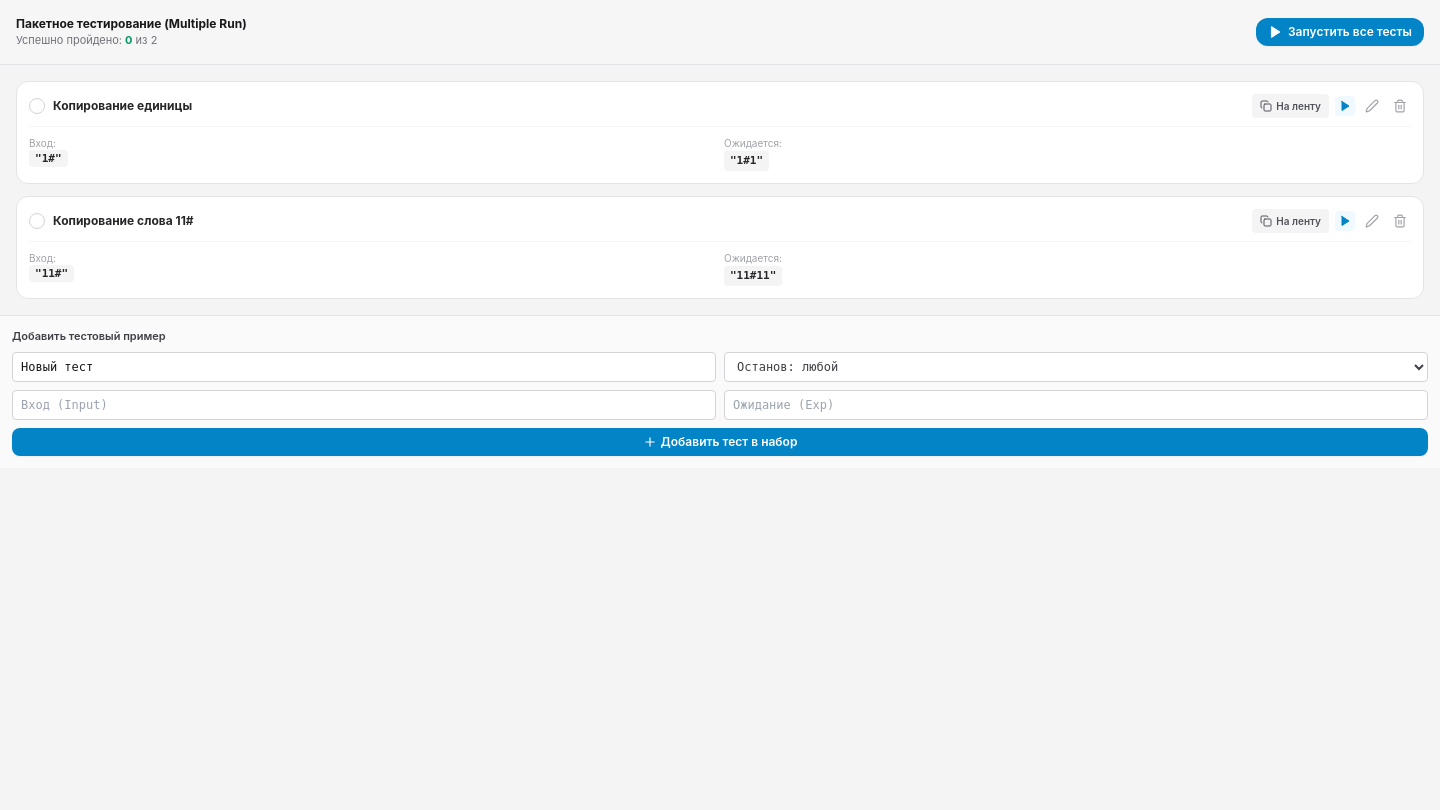
Test case: React UI Components › BatchTestRunner adds a test case, runs all tests, and loads input onto tape
This screenshot has width=1440, height=810.
Earlier steps of the test are not shown.
Later steps or results of the test are not shown.
Type "111#" into the field with placeholder "Вход (Input)" at (364, 405), box [12, 390, 716, 420]
Type "111#111" into the field with placeholder "Ожидание (Exp)" at (1076, 405), box [724, 390, 1428, 420]
Click the button "Добавить тест в набор" at (720, 442), box [12, 428, 1428, 456]
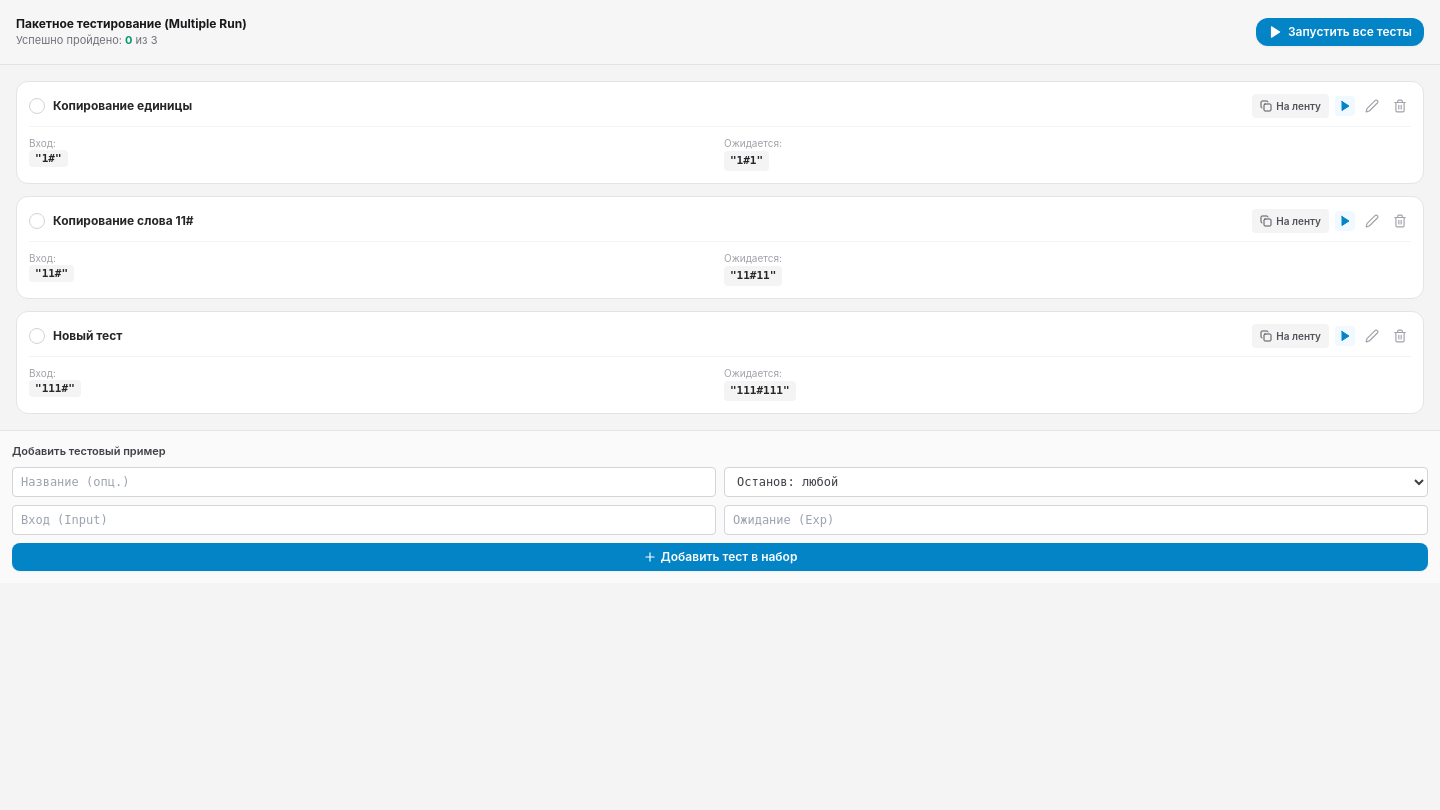
expect the text "Новый тест" is shown: met, box [53, 328, 122, 344]
Click the button "Запустить все тесты" at (1340, 32), box [1256, 18, 1424, 46]
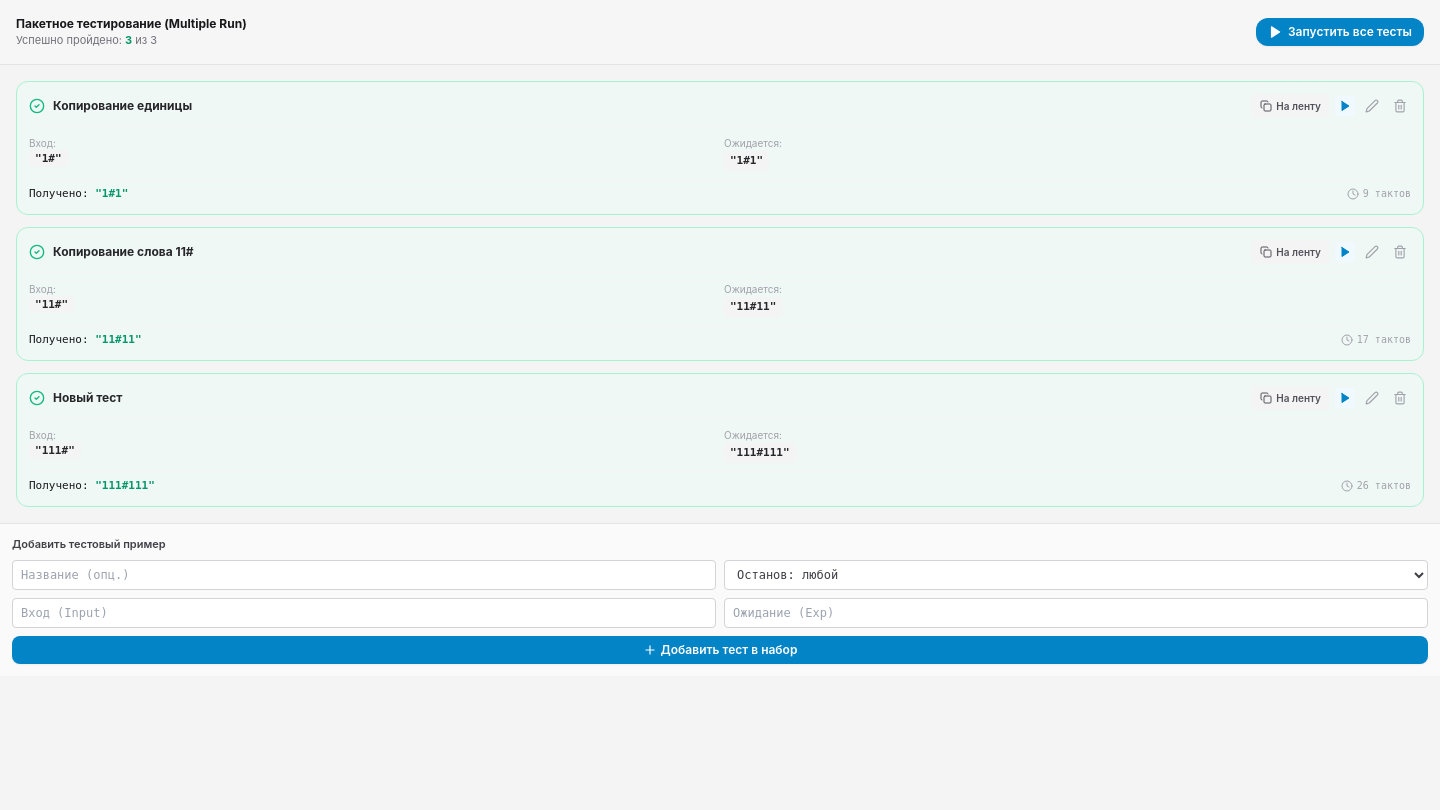
expect the text "3" is shown: met, box [125, 33, 132, 47]
// Add a test requiring accept halt
Type "Accept тест" into the field with placeholder "Название (опц.)" at (364, 575), box [12, 560, 716, 590]
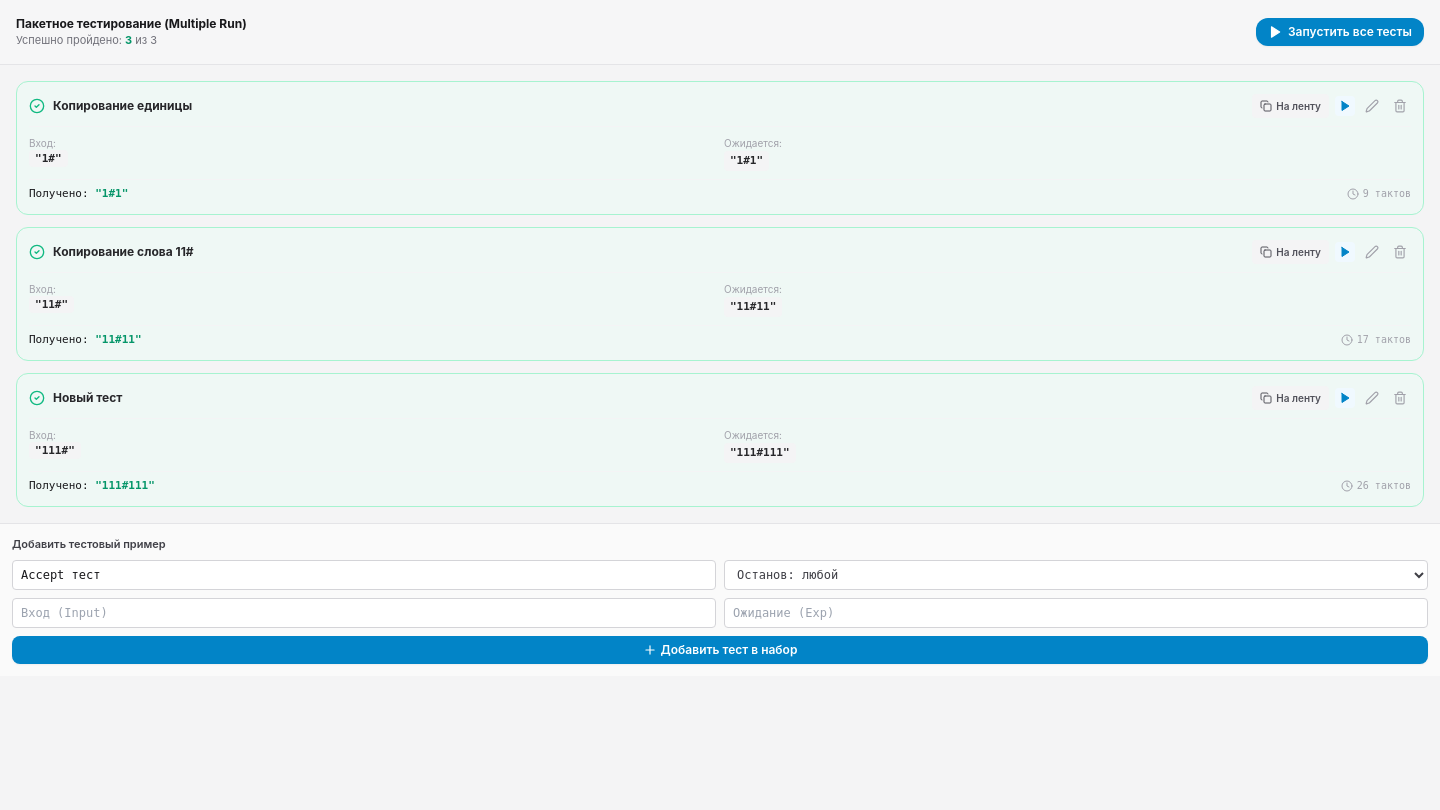
Select "Останов: accept" in the dropdown named "Ожидаемый останов" at (1076, 575), box [724, 560, 1428, 590]
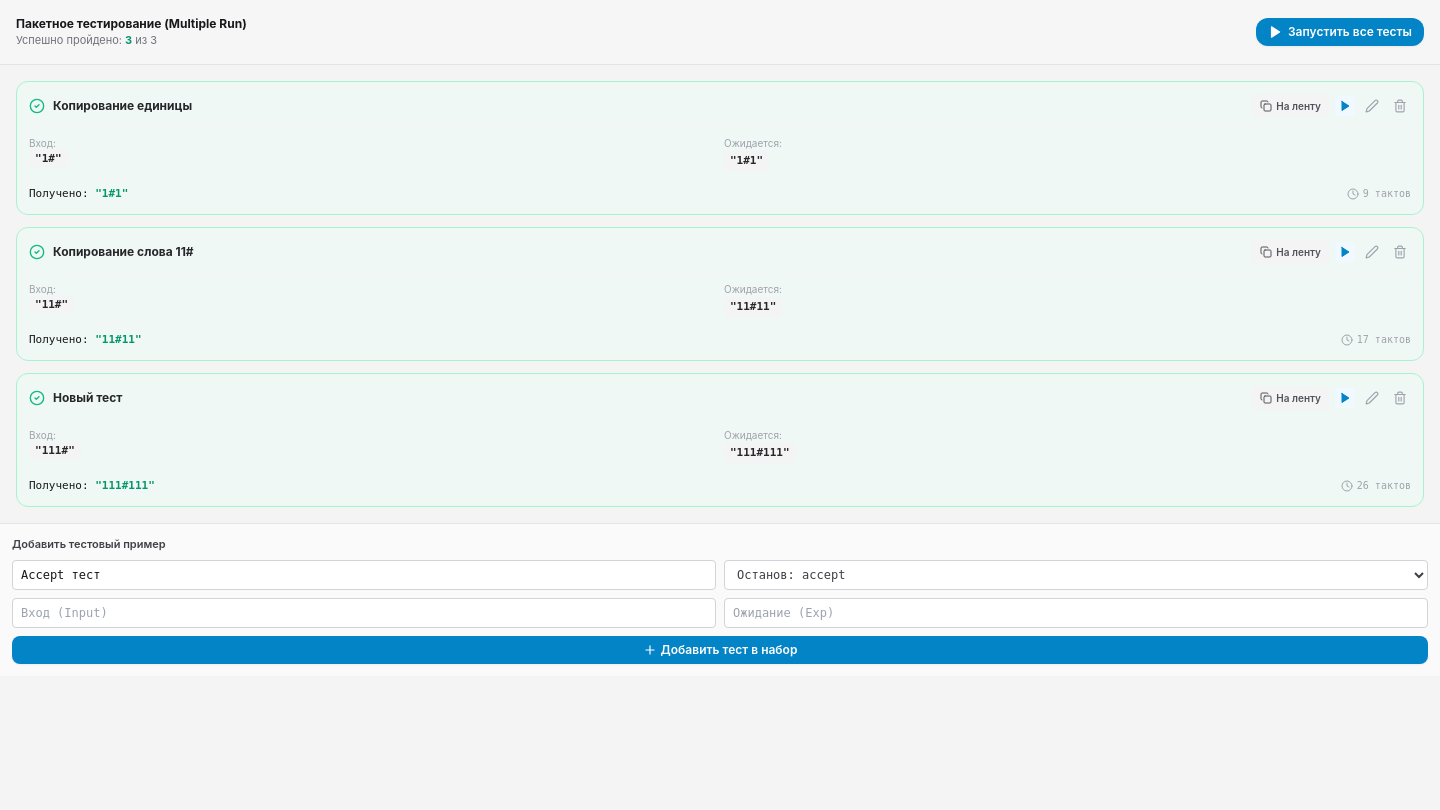
Type "1" into the field with placeholder "Вход (Input)" at (364, 613), box [12, 598, 716, 628]
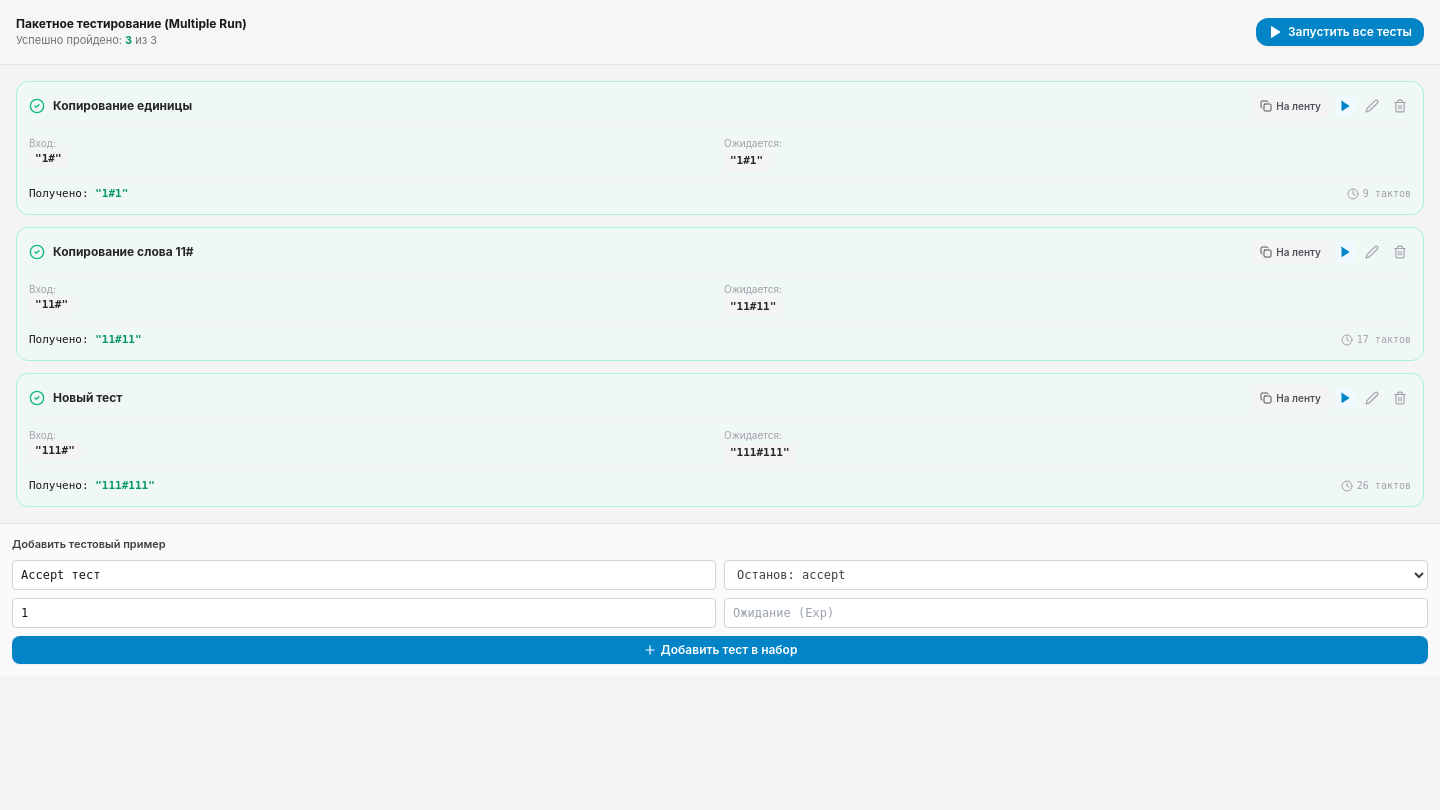
Click the button "Добавить тест в набор" at (720, 650), box [12, 636, 1428, 664]
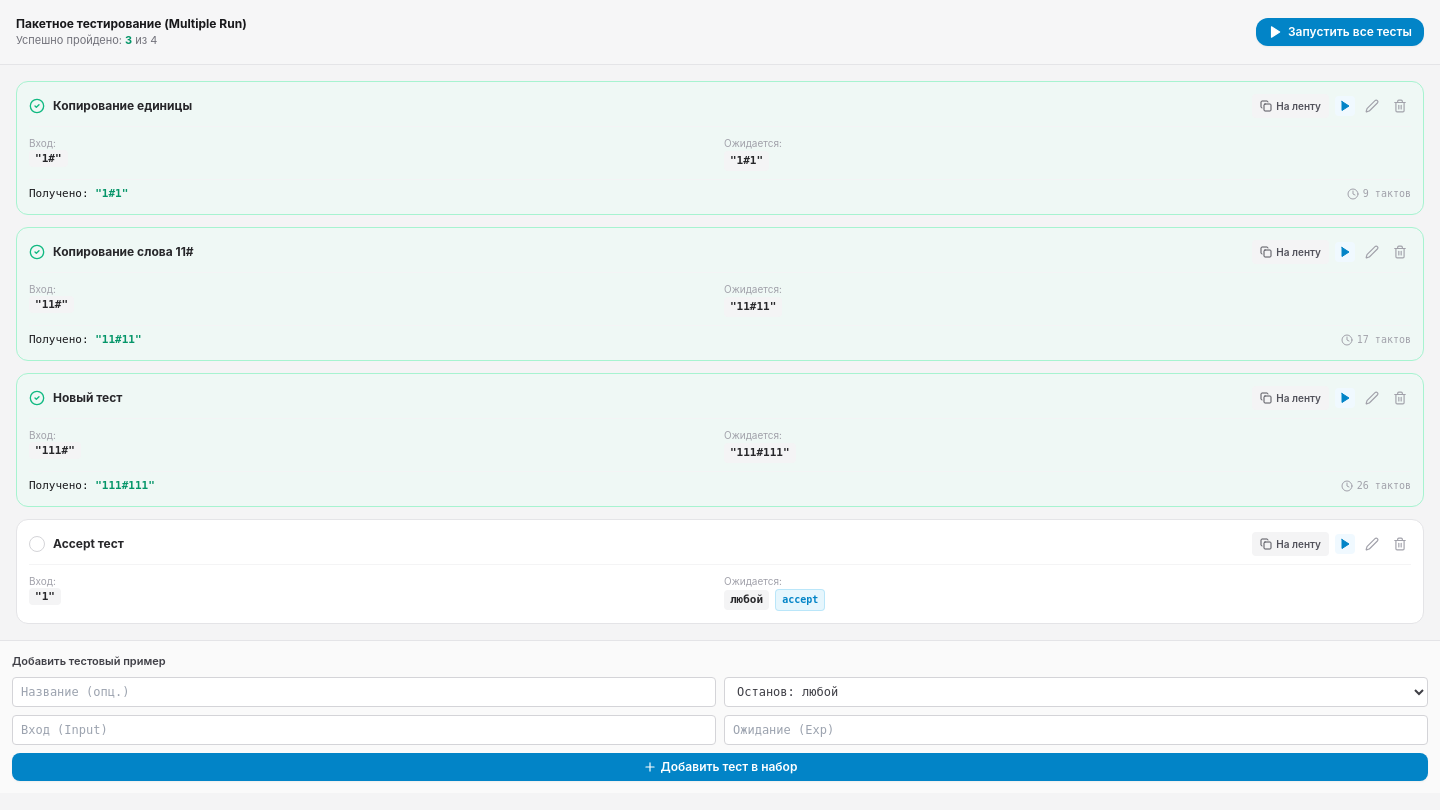
expect the text "accept" is shown: met, box [775, 589, 825, 611]
